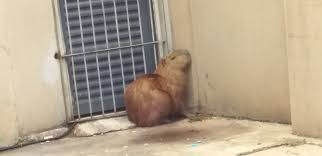capivara: (122, 48, 198, 130)
